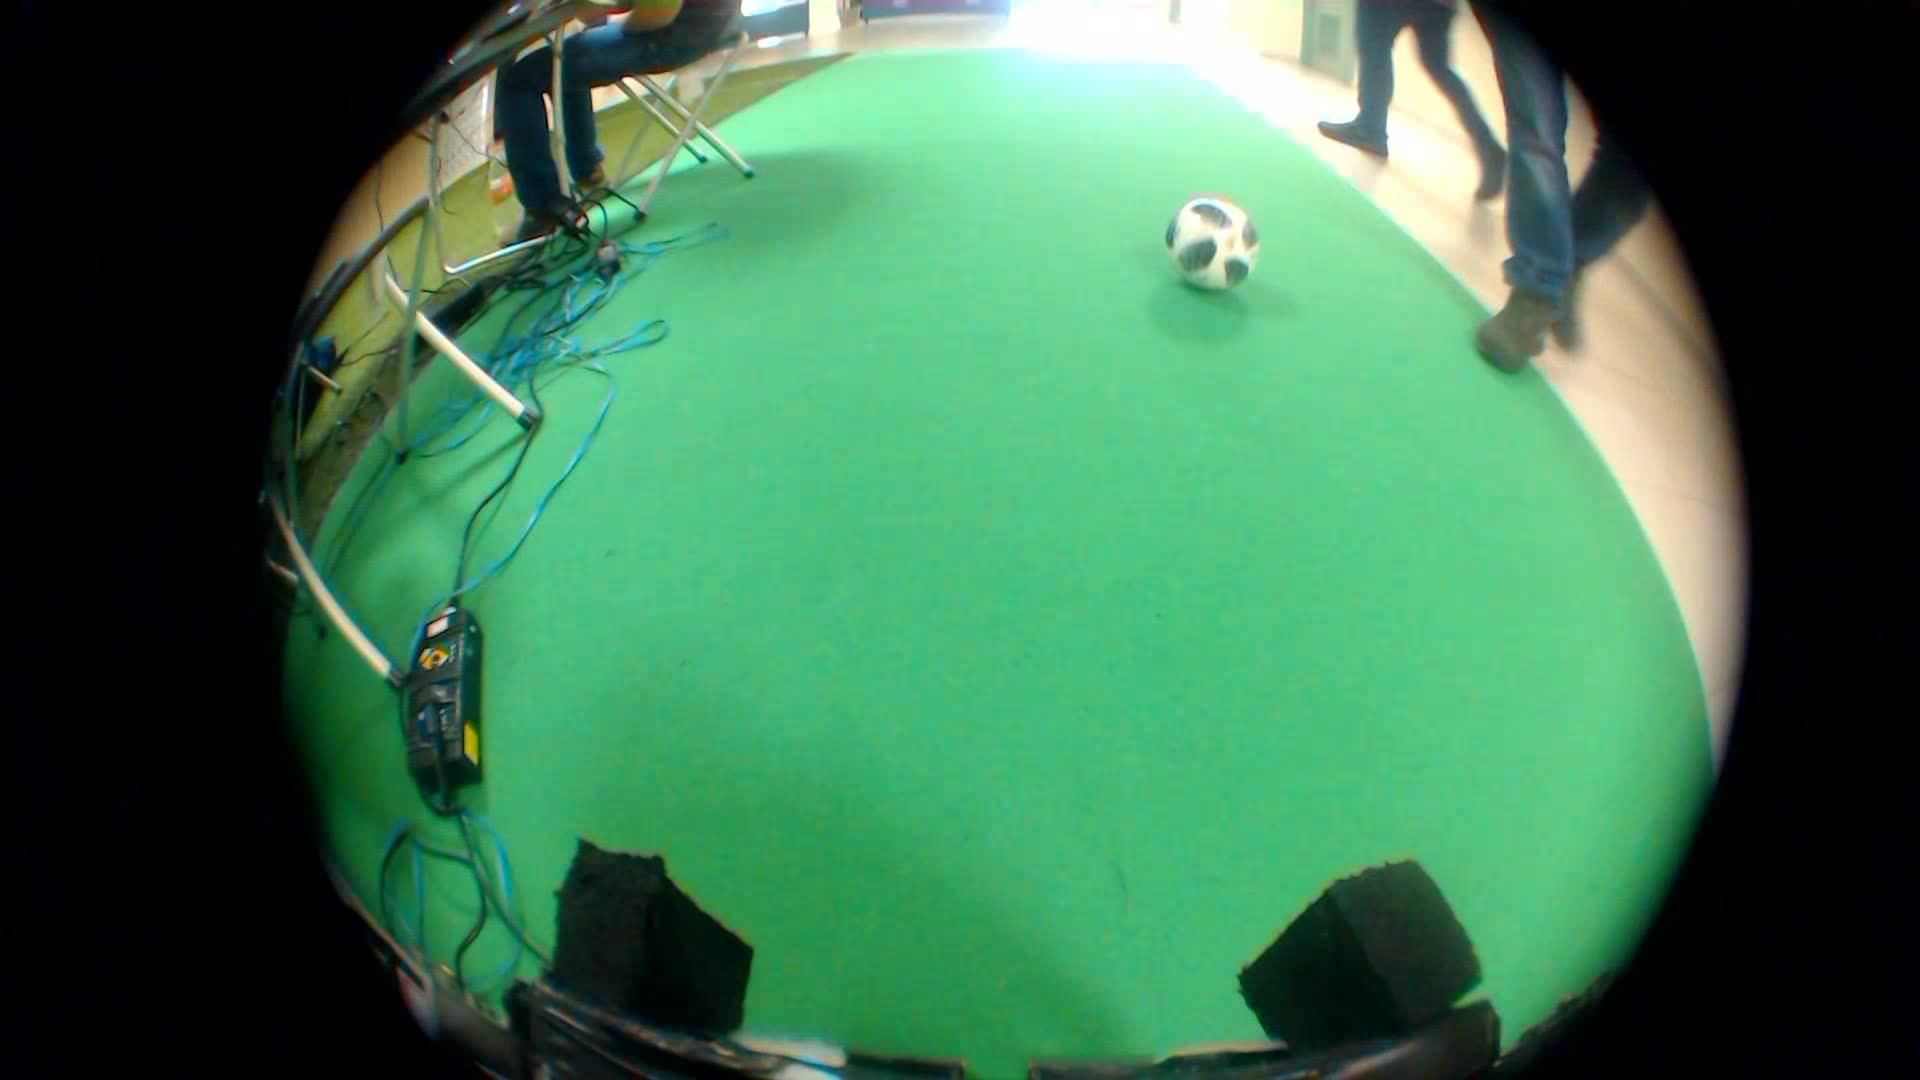ball: (1151, 179, 1269, 306)
